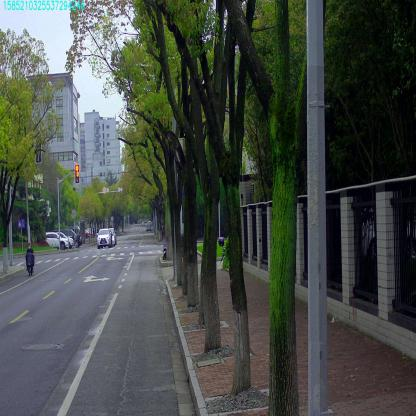traffic-light: (75, 165, 79, 182)
